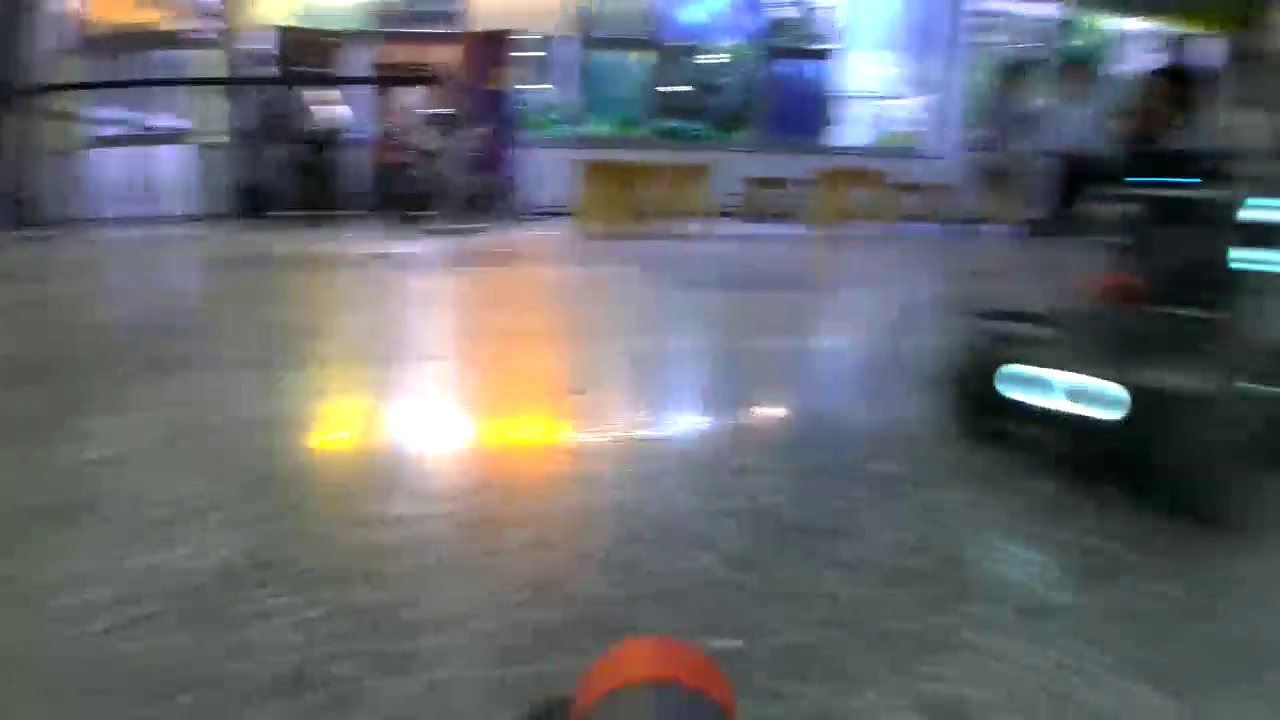robot: (957, 175, 1280, 490)
